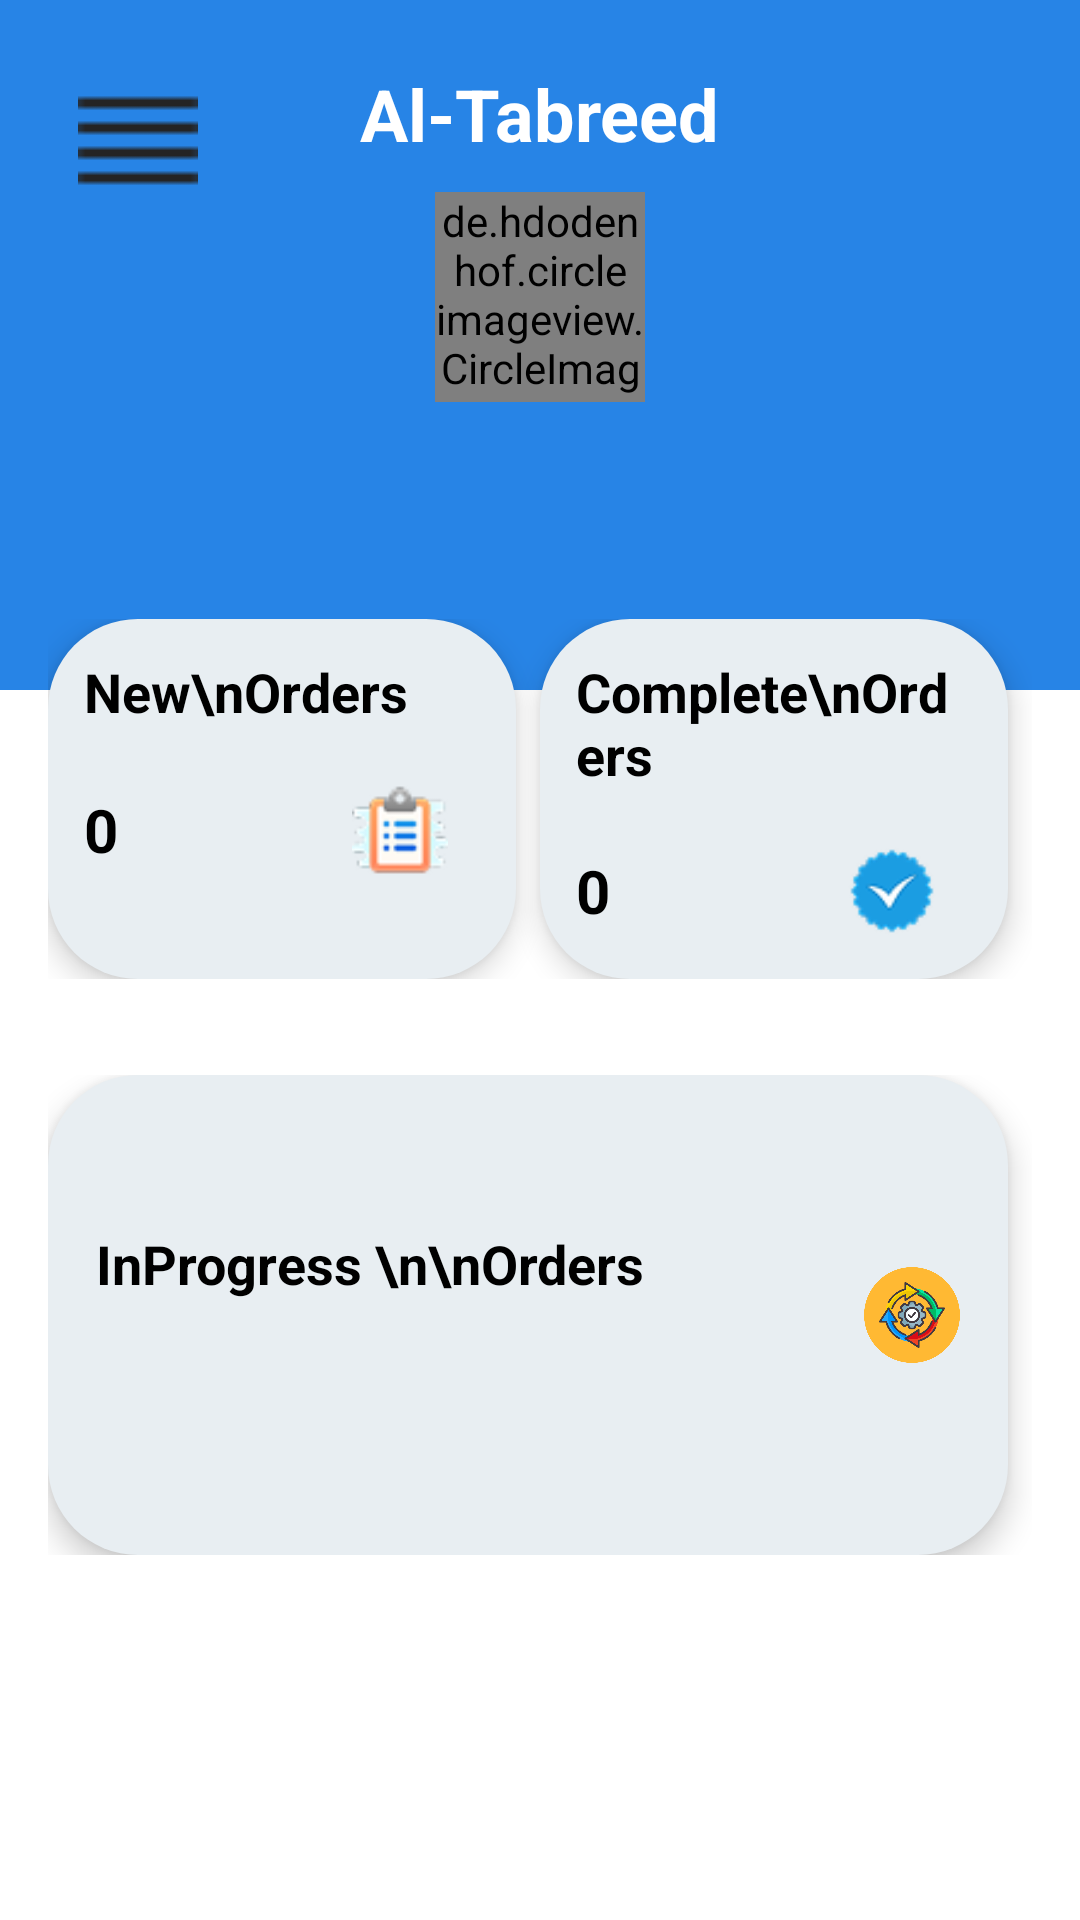

Named icons in this screenshot (1080x1920) and their bounding boxes, (x1, y1, x2, y2):
inprogress: (864, 1267, 960, 1363)
newrequest: (352, 786, 448, 874)
Open Menu: (78, 96, 198, 185)
